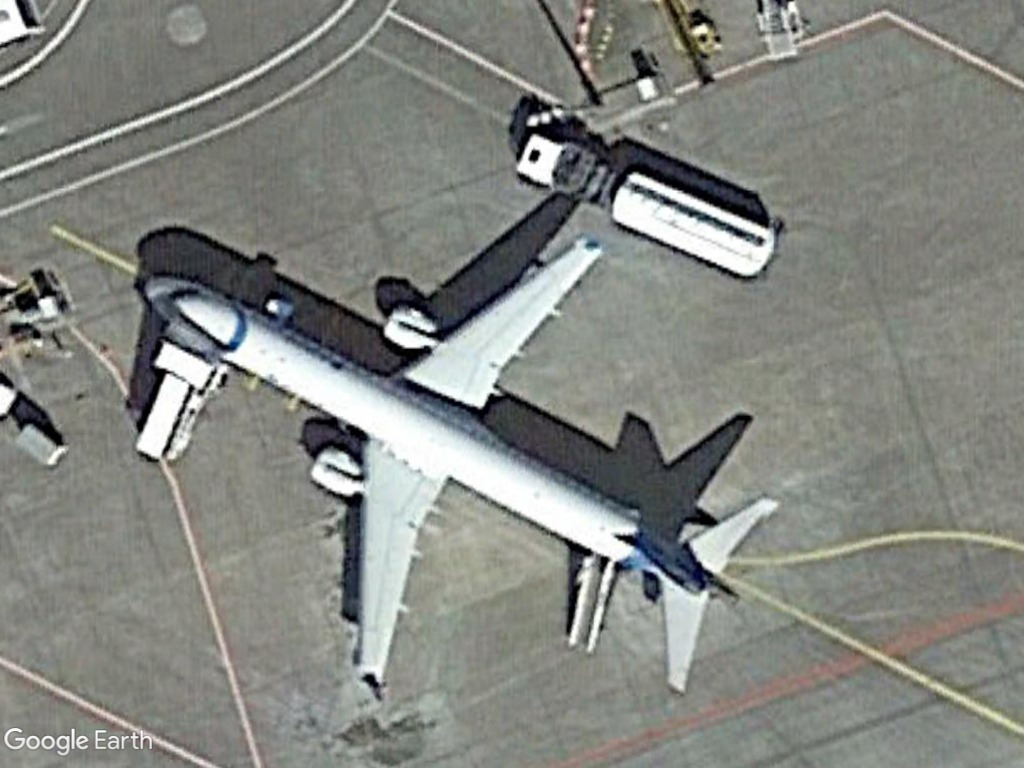airliner: (128, 229, 795, 716)
